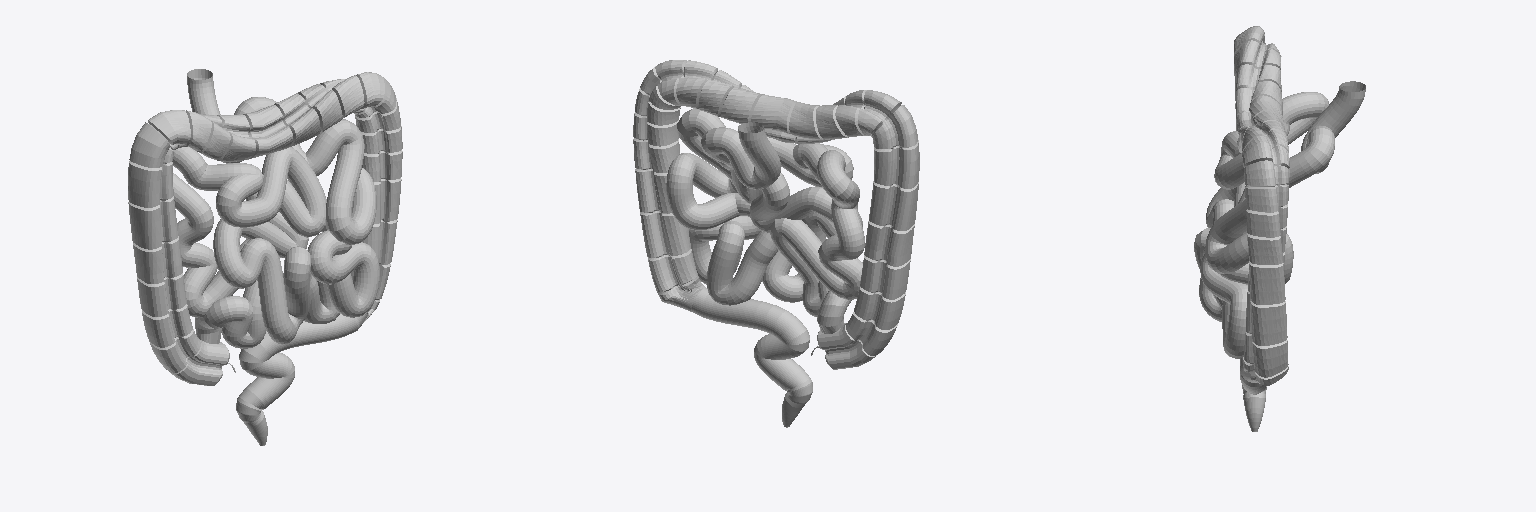
File: ANATOMY---HUMAN-INTESTINE.obj
The picture shows the model from 3 angles: view 1: azimuth 30°, elevation 25°; view 2: azimuth 150°, elevation 25°; view 3: azimuth 270°, elevation 25°; orthographic projection.
Visible parts, largest first — view 1: ANATOMY___HUMAN_INTESTINE; view 2: ANATOMY___HUMAN_INTESTINE; view 3: ANATOMY___HUMAN_INTESTINE.
Boxes of the visible parts, <box> form: ANATOMY___HUMAN_INTESTINE: <box>128,69,402,445</box>; ANATOMY___HUMAN_INTESTINE: <box>633,60,919,427</box>; ANATOMY___HUMAN_INTESTINE: <box>1194,26,1365,431</box>.
Bounding box in the file's own units: 8.27 × 10.24 × 4.49.